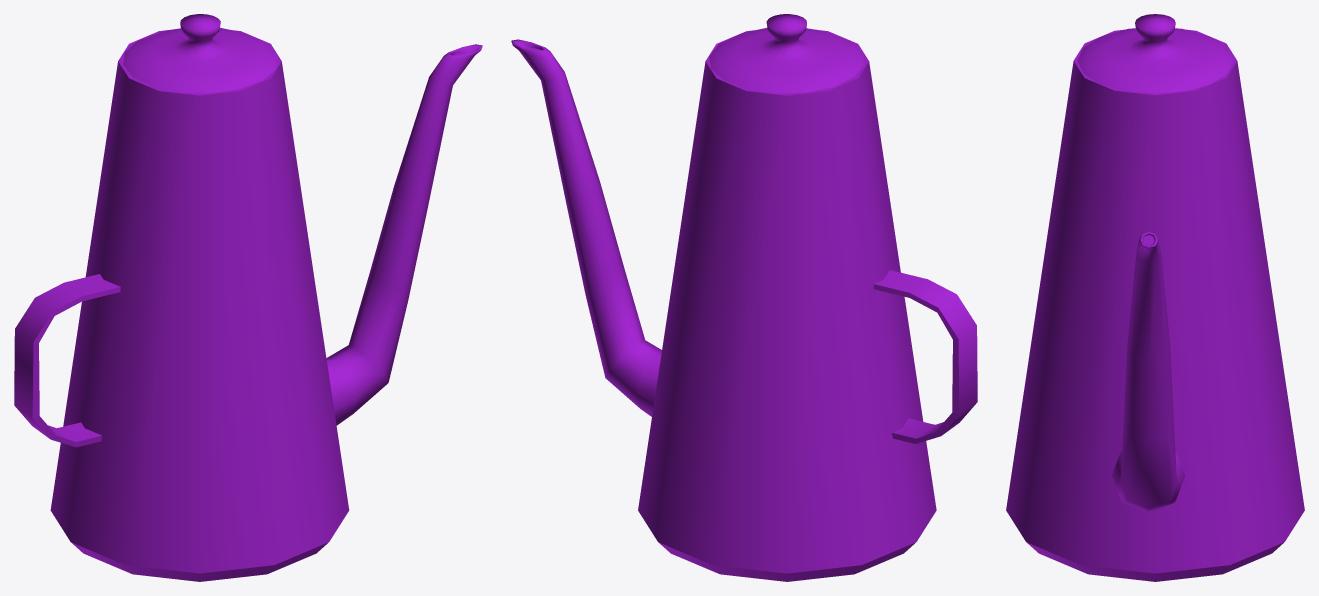
Rendered from shop cont teapot 2 lod0.FBX.
The picture shows the model from 3 angles, left to right: view 1: azimuth 30°, elevation 25°; view 2: azimuth 150°, elevation 25°; view 3: azimuth 270°, elevation 25°; orthographic projection.
Parts seen in each view (by area): view 1: Cone001; view 2: Cone001; view 3: Cone001.
Boxes of the visible parts, bbox=[...] form: Cone001: bbox=[14, 14, 482, 581]; Cone001: bbox=[511, 14, 977, 581]; Cone001: bbox=[1006, 14, 1304, 581].
Size of the model in its own units: 0.649 by 0.6834 by 0.3663.
